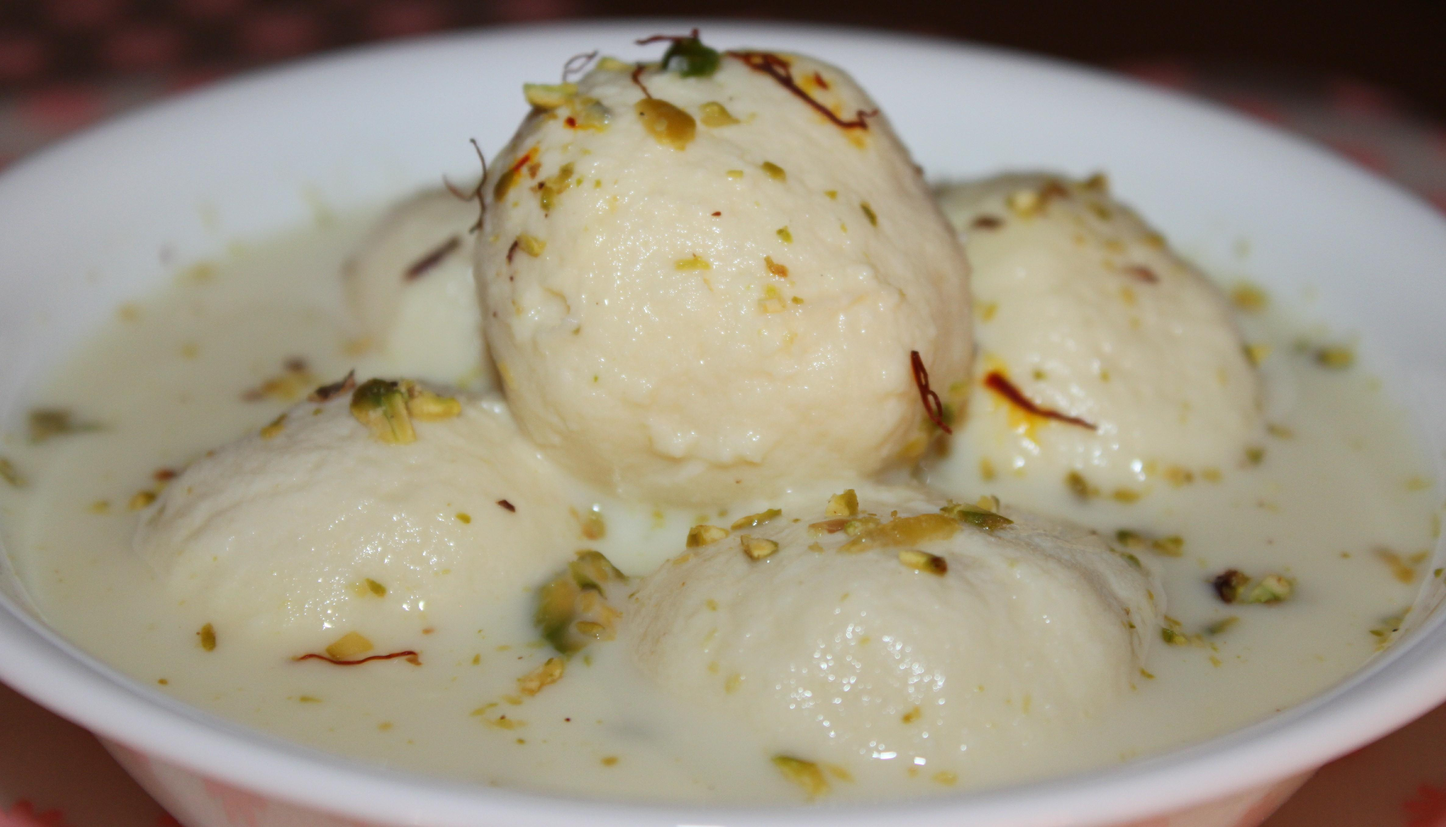RasMalai: (0, 20, 1446, 814)
